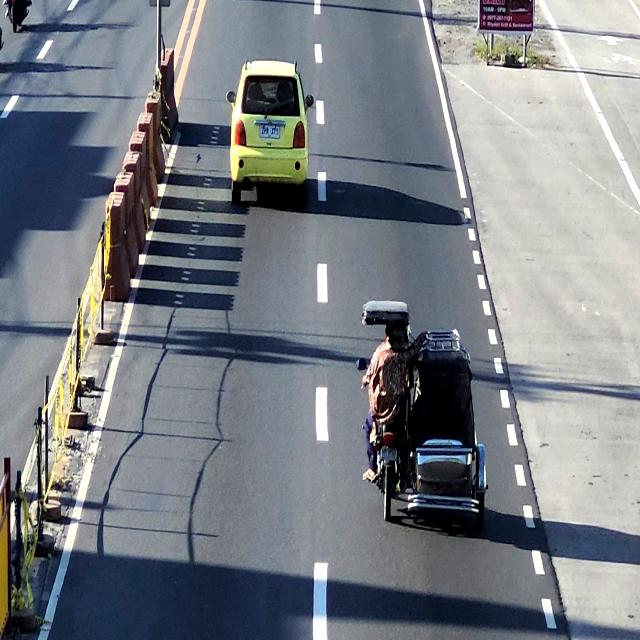Car: (233, 62, 308, 203)
License-Plate: (258, 120, 280, 139), (380, 448, 399, 465)
Tricycle: (362, 299, 489, 529)
